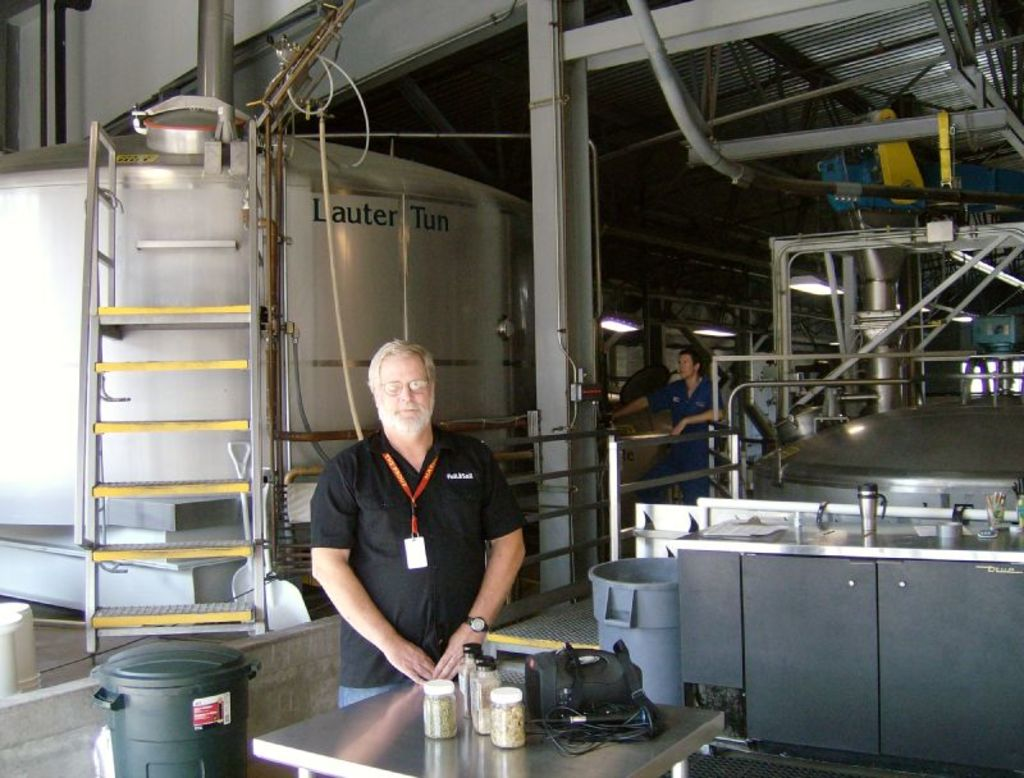Person: (310, 337, 526, 709), (606, 352, 726, 504)
